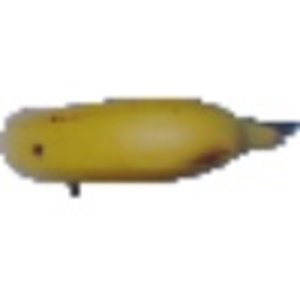banana: (1, 89, 280, 185)
